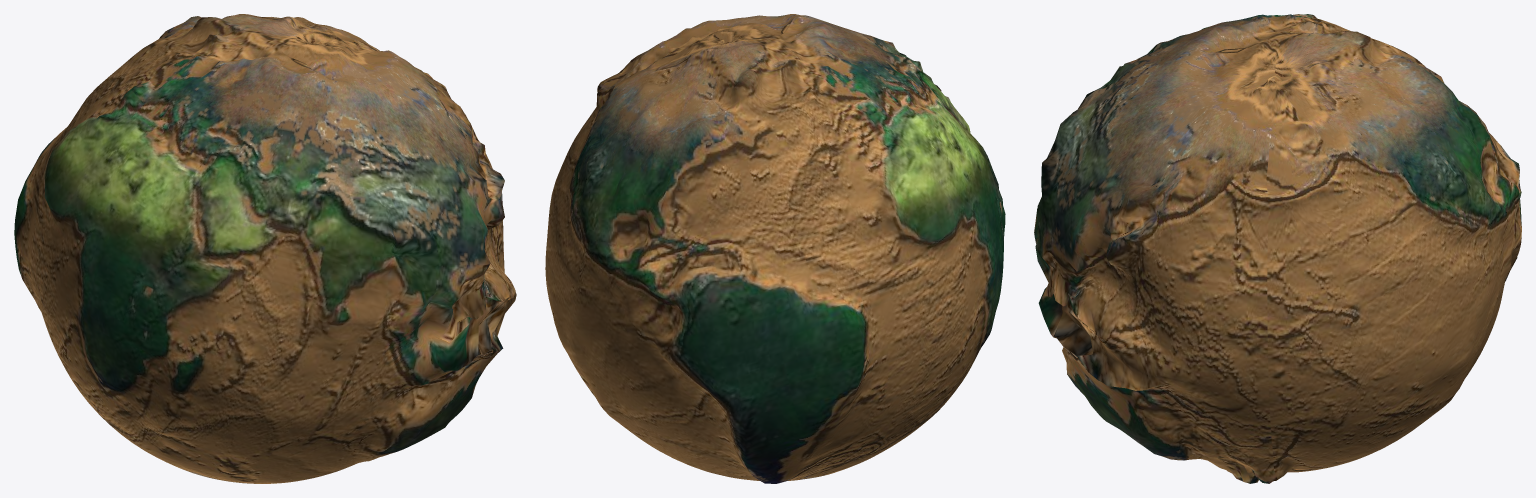
The model's file is earth_test2.fbx.
The picture shows the model from 3 angles, left to right: view 1: azimuth 30°, elevation 25°; view 2: azimuth 150°, elevation 25°; view 3: azimuth 270°, elevation 25°; orthographic projection.
Parts seen in each view (by area): view 1: Earth; view 2: Earth; view 3: Earth.
Part boxes in pixels (box(x1,y1,x2,y2)): Earth: box(14, 14, 516, 483); Earth: box(545, 14, 1005, 483); Earth: box(1034, 14, 1521, 483).
Size of the model in its own units: 201 by 202 by 214.
1 material, 1 textured.
